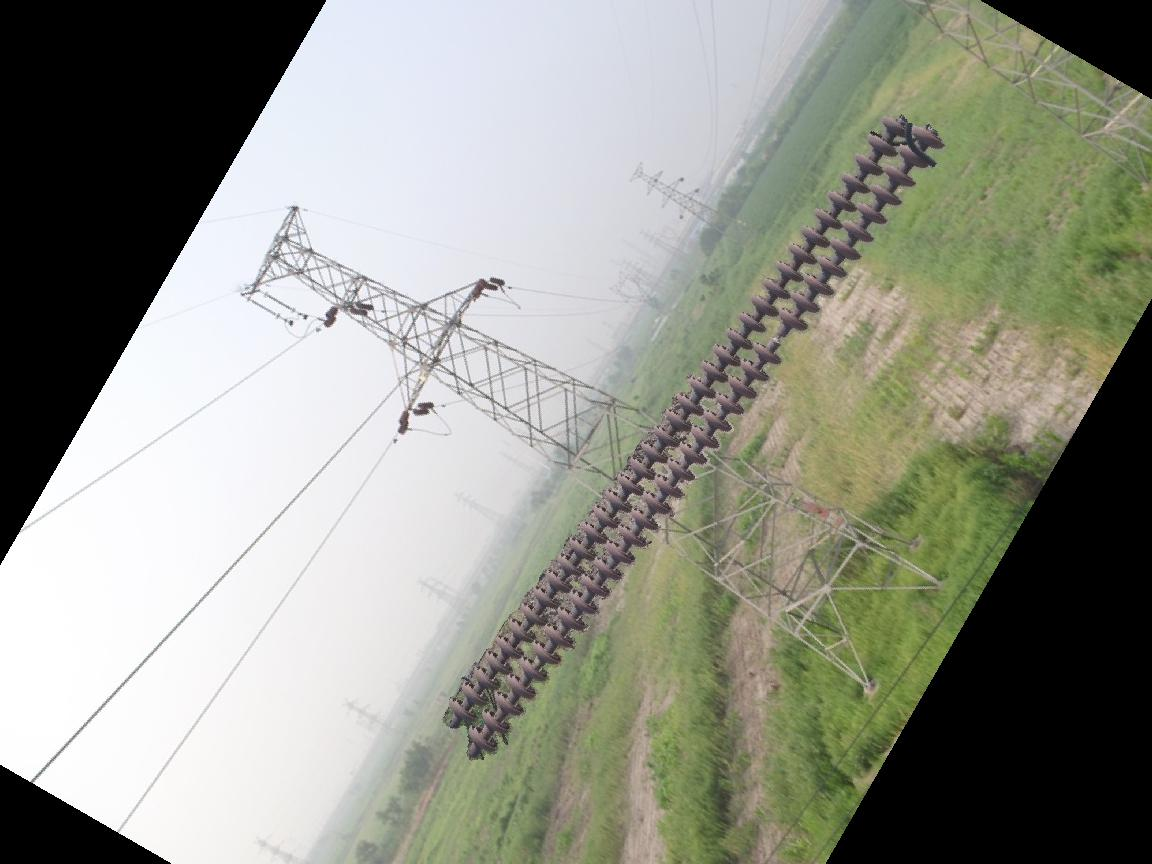insulator: (447, 112, 941, 762)
insulator_stringdrop: (746, 303, 811, 367)
